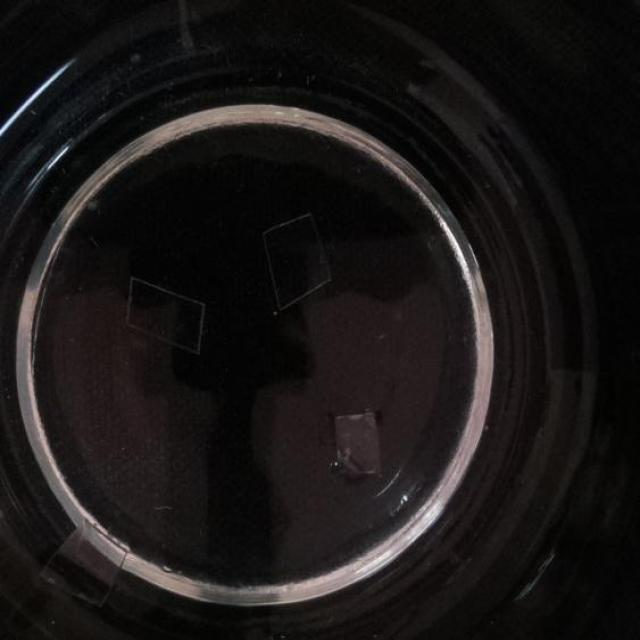fiber: (35, 518, 131, 612), (257, 208, 333, 314), (124, 276, 208, 356), (330, 408, 388, 482)
